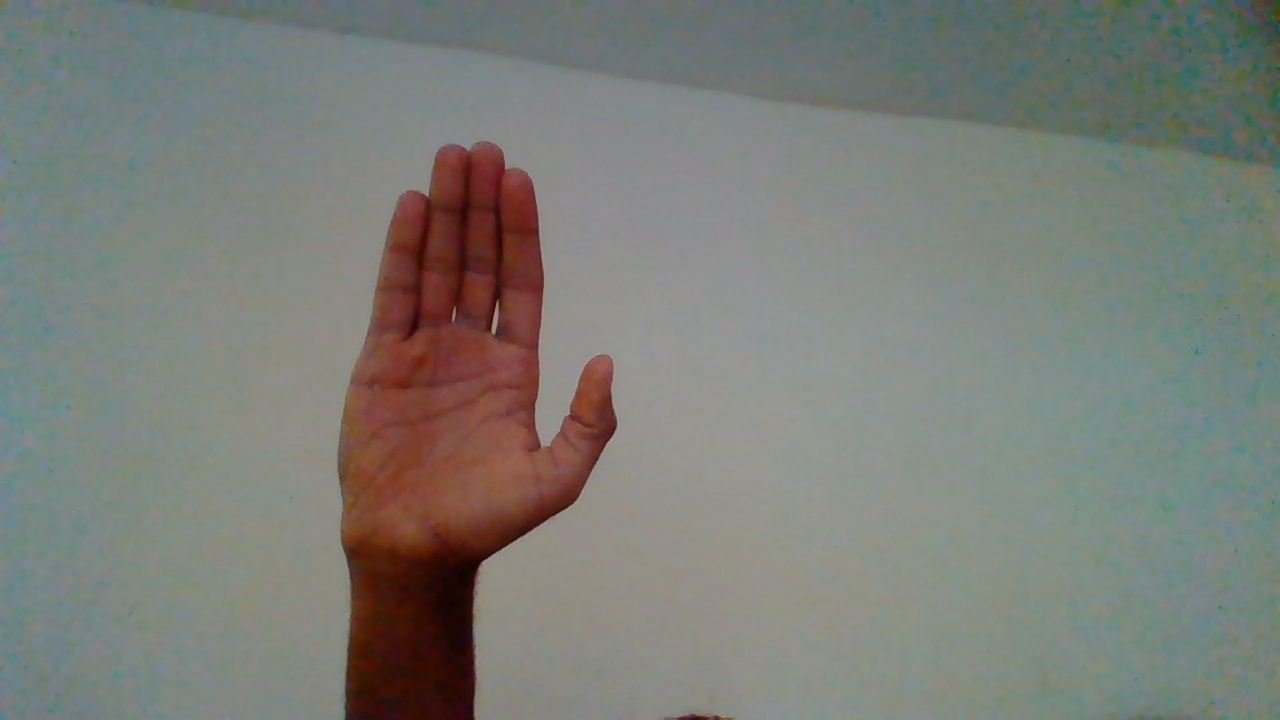ha: (332, 144, 620, 622)
